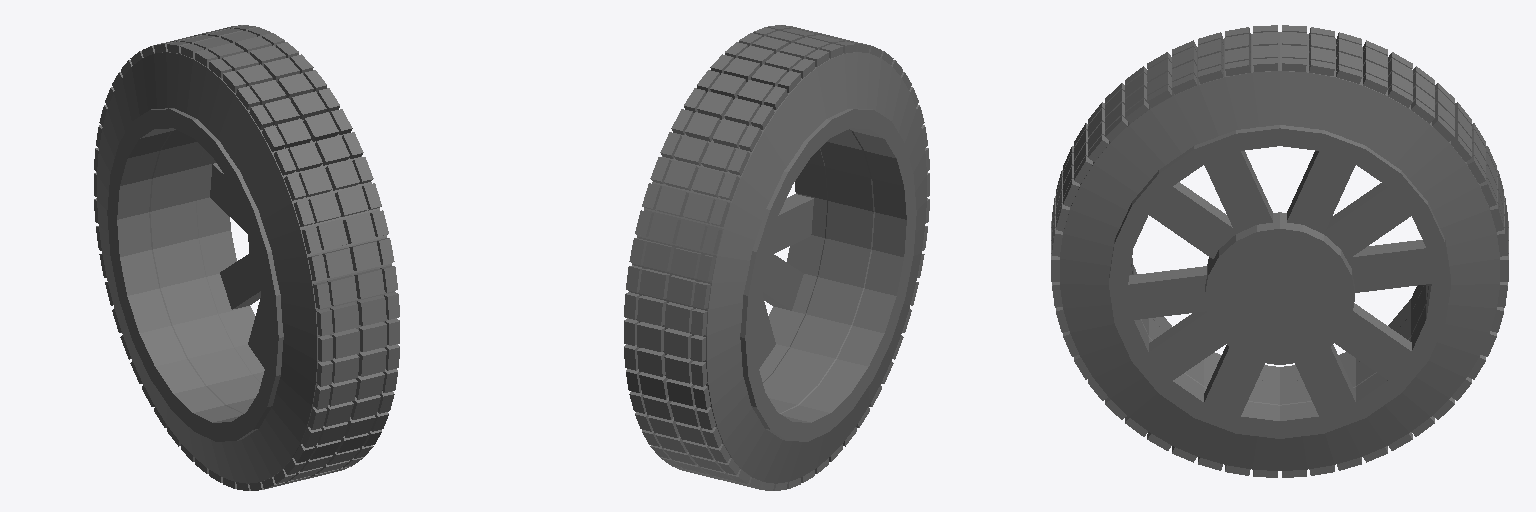
Rendered from wheelandrimMesh.obj.
The picture shows the model from 3 angles: view 1: azimuth 30°, elevation 25°; view 2: azimuth 150°, elevation 25°; view 3: azimuth 270°, elevation 25°; orthographic projection.
Visible parts, largest first — view 1: pPipe1, RimMesh2; view 2: pPipe1, RimMesh2; view 3: pPipe1, RimMesh2.
Part boxes in pixels (x1,y1,x2,y2): pPipe1: (94, 25, 399, 490); RimMesh2: (107, 108, 283, 441); pPipe1: (624, 25, 929, 490); RimMesh2: (740, 108, 916, 441); pPipe1: (1051, 25, 1508, 477); RimMesh2: (1109, 125, 1450, 438).
Size of the model in its own units: 0.9013 by 2.84 by 2.83.